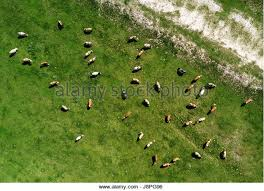sheep: (45, 78, 62, 88), (58, 102, 72, 113), (5, 47, 21, 56), (135, 49, 147, 60), (152, 80, 161, 94), (141, 96, 153, 106), (142, 138, 154, 148), (203, 138, 213, 150), (131, 132, 144, 141), (85, 56, 99, 64), (90, 69, 103, 77), (117, 90, 127, 100), (84, 98, 93, 109), (242, 97, 253, 106), (219, 149, 228, 160), (21, 57, 33, 65), (73, 135, 86, 142), (15, 31, 30, 37), (192, 73, 202, 82), (195, 89, 205, 98), (194, 150, 203, 160), (81, 41, 95, 47), (208, 105, 217, 114), (55, 19, 65, 27), (132, 63, 142, 71), (129, 77, 139, 85), (204, 81, 214, 89), (150, 155, 158, 165), (81, 26, 94, 32), (181, 120, 192, 127), (38, 62, 50, 68), (185, 84, 194, 92), (165, 115, 173, 124), (160, 162, 172, 168), (144, 40, 151, 50), (176, 67, 186, 74), (196, 116, 206, 123), (171, 157, 182, 163), (130, 35, 138, 43), (84, 50, 94, 56), (187, 103, 196, 109)
